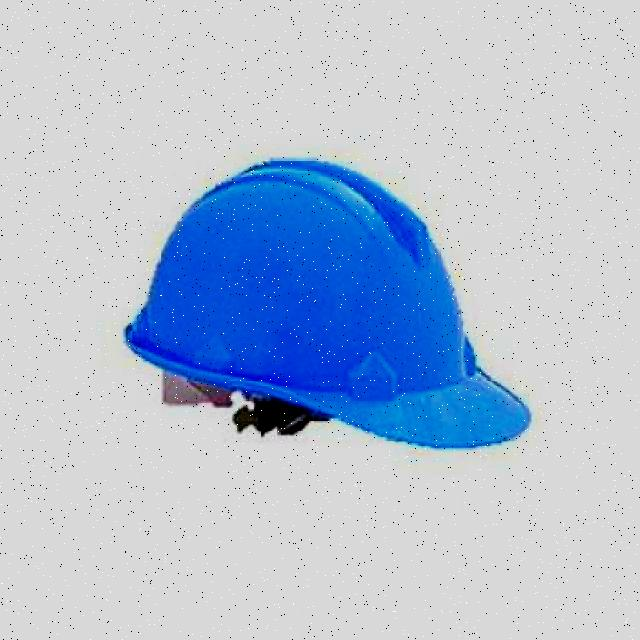Helmet: (110, 149, 530, 468)
